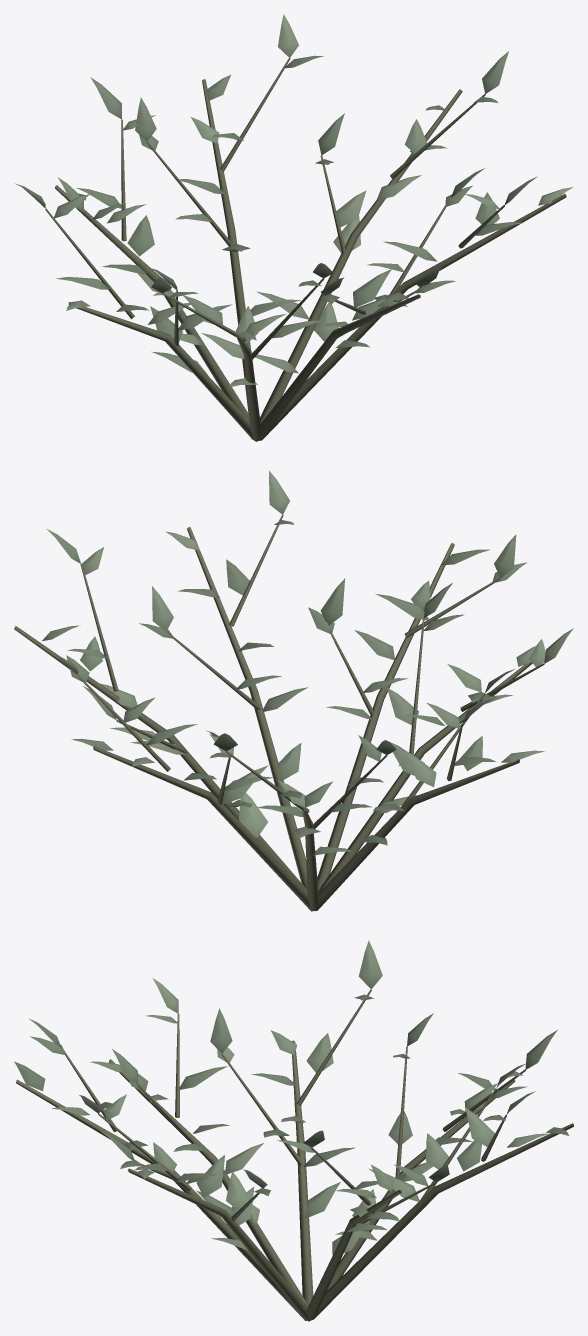
Rendered from silver_sagebrush.glb.
3 views of the same model, one above another, from view 1: azimuth 30°, elevation 25°; view 2: azimuth 150°, elevation 25°; view 3: azimuth 270°, elevation 25° (orthographic). The views are drawn at different scales.
Visible parts, largest first — view 1: silver_sagebrush; view 2: silver_sagebrush; view 3: silver_sagebrush.
Boxes of the visible parts, <box> form: silver_sagebrush: <box>15,14,573,441</box>; silver_sagebrush: <box>14,470,573,911</box>; silver_sagebrush: <box>14,940,573,1321</box>.
Bounding box in the file's own units: 1.22 × 0.7944 × 1.29.
